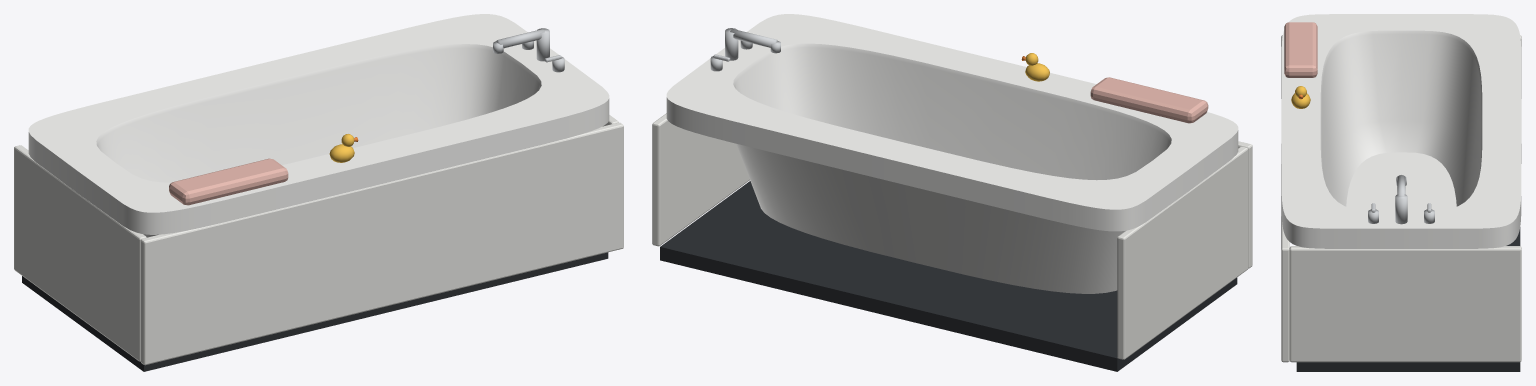
File: bathtub.glb
3 renders of one model, left to right at view 1: azimuth 30°, elevation 25°; view 2: azimuth 150°, elevation 25°; view 3: azimuth 270°, elevation 25°, orthographic. The views are drawn at different scales.
Visible parts, largest first — view 1: body; view 2: body; view 3: body.
Part boxes in pixels (box(x1,y1,x2,y2)): body: box(14, 14, 623, 371); body: box(652, 14, 1252, 371); body: box(1281, 14, 1521, 371).
Bounding box in the file's own units: 1.82 × 0.686 × 0.86.
